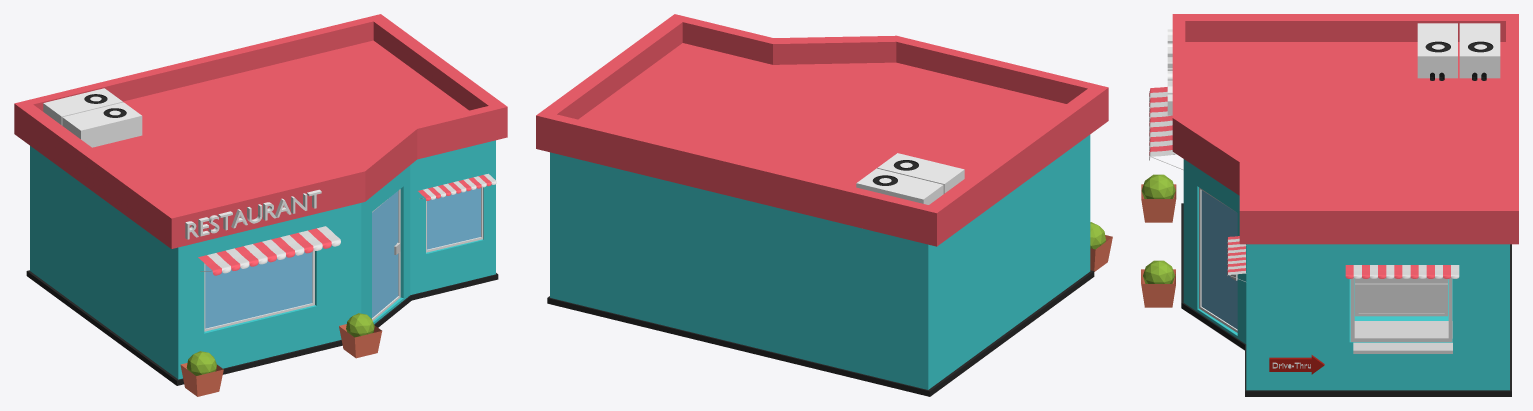
The model's file is restaurant.fbx.
The picture shows the model from 3 angles, left to right: view 1: azimuth 30°, elevation 25°; view 2: azimuth 150°, elevation 25°; view 3: azimuth 270°, elevation 25°; orthographic projection. The views are drawn at different scales.
Visible parts, largest first — view 1: Cube.095, Cube.094, Plane.015, Plane.011, Plane.014, Cylinder.008, Cube.096, Cube.101, Text, Icosphere, Icosphere.003, Cube.100 (+1 smaller); view 2: Cube.095, Cube.094, Cube.096, Cube.100, Cube.101, Icosphere; view 3: Cube.095, Cube.094, Plane.011, Cube.105, Cube.096, Cube.100, Cube.101, Cylinder.006, Cylinder.008, Icosphere, Icosphere.003, Cube.099 (+5 smaller).
Boxes of the visible parts, left/top/right/bottom form: Cube.095: left=14, top=14, right=507, bottom=248; Cube.094: left=30, top=140, right=495, bottom=379; Plane.015: left=204, top=249, right=314, bottom=331; Plane.011: left=372, top=189, right=400, bottom=320; Plane.014: left=426, top=187, right=483, bottom=252; Cylinder.008: left=198, top=226, right=340, bottom=275; Cube.096: left=26, top=270, right=498, bottom=385; Cube.101: left=62, top=102, right=142, bottom=147; Text: left=185, top=189, right=321, bottom=239; Icosphere: left=180, top=351, right=223, bottom=396; Icosphere.003: left=339, top=313, right=382, bottom=358; Cube.100: left=43, top=88, right=122, bottom=125; Cube.095: left=536, top=14, right=1108, bottom=246; Cube.094: left=550, top=135, right=1090, bottom=389; Cube.096: left=547, top=270, right=1094, bottom=396; Cube.100: left=856, top=168, right=943, bottom=204; Cube.101: left=877, top=153, right=964, bottom=193; Icosphere: left=1090, top=222, right=1112, bottom=271; Cube.095: left=1172, top=14, right=1518, bottom=244; Cube.094: left=1183, top=159, right=1509, bottom=390; Plane.011: left=1199, top=187, right=1237, bottom=332; Cube.105: left=1355, top=277, right=1447, bottom=316; Cube.096: left=1181, top=203, right=1511, bottom=396; Cube.100: left=1459, top=23, right=1500, bottom=80; Cube.101: left=1417, top=23, right=1457, bottom=80; Cylinder.006: left=1345, top=265, right=1459, bottom=278; Cylinder.008: left=1149, top=87, right=1183, bottom=169; Icosphere: left=1141, top=174, right=1176, bottom=222; Icosphere.003: left=1141, top=260, right=1175, bottom=307; Cube.099: left=1350, top=277, right=1452, bottom=341.
Size of the model in its own units: 3150 by 1401 by 2505.
